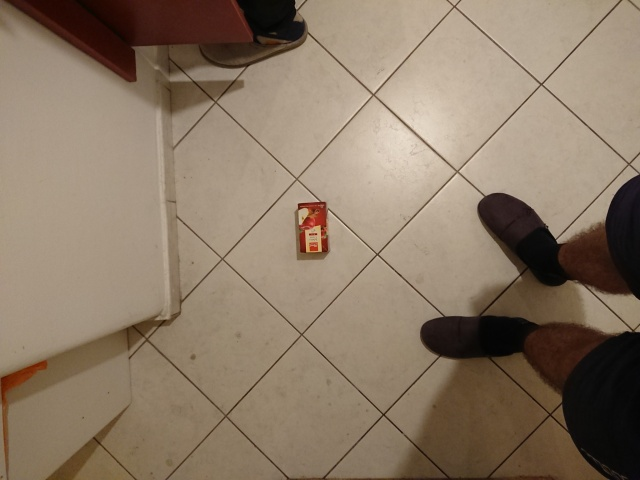Franck Apple Cinnamon Tea 60g: (294, 199, 332, 255)
